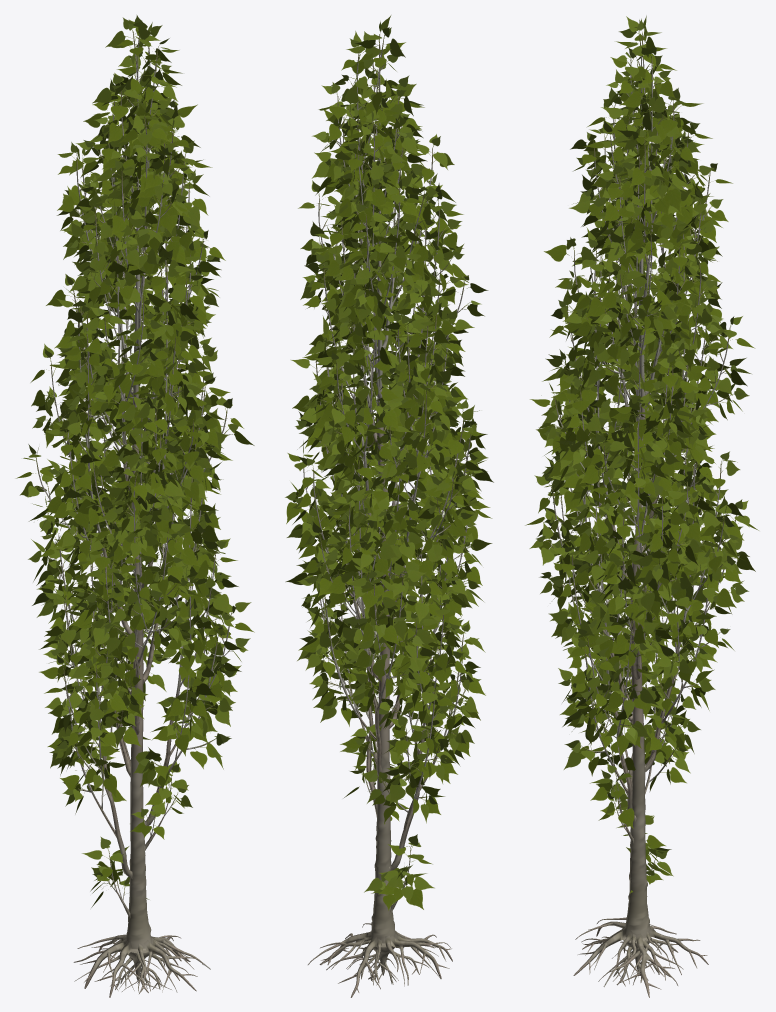
The model's file is tree-poplar.glb.
3 views of the same model, side by side, from view 1: azimuth 30°, elevation 25°; view 2: azimuth 150°, elevation 25°; view 3: azimuth 270°, elevation 25° (orthographic).
Visible parts, largest first — view 1: Populus_nigra__Italica__HD_Pop nigra leaf 01d_0, Populus_nigra__Italica__HD_Pop nigra leaf 01c_0, Populus_nigra__Italica__HD_Pop nigra bark 01_0, Populus_nigra__Italica__HD_Pop nigra leaf 01b_0, Populus_nigra__Italica__HD_Pop nigra twig 03_0, Populus_nigra__Italica__HD_Pop nigra lf stk 01d_0, Populus_nigra__Italica__HD_Pop nigra lf stk 01c_0; view 2: Populus_nigra__Italica__HD_Pop nigra leaf 01d_0, Populus_nigra__Italica__HD_Pop nigra leaf 01c_0, Populus_nigra__Italica__HD_Pop nigra bark 01_0, Populus_nigra__Italica__HD_Pop nigra leaf 01b_0, Populus_nigra__Italica__HD_Pop nigra twig 03_0, Populus_nigra__Italica__HD_Pop nigra lf stk 01d_0, Populus_nigra__Italica__HD_Pop nigra lf stk 01c_0; view 3: Populus_nigra__Italica__HD_Pop nigra leaf 01d_0, Populus_nigra__Italica__HD_Pop nigra leaf 01c_0, Populus_nigra__Italica__HD_Pop nigra bark 01_0, Populus_nigra__Italica__HD_Pop nigra leaf 01b_0, Populus_nigra__Italica__HD_Pop nigra twig 03_0, Populus_nigra__Italica__HD_Pop nigra lf stk 01d_0, Populus_nigra__Italica__HD_Pop nigra lf stk 01c_0.
Boxes of the visible parts, x1,y1,x2,y2 form: Populus_nigra__Italica__HD_Pop nigra leaf 01d_0: (15, 27, 254, 907); Populus_nigra__Italica__HD_Pop nigra leaf 01c_0: (23, 17, 251, 893); Populus_nigra__Italica__HD_Pop nigra bark 01_0: (41, 57, 227, 997); Populus_nigra__Italica__HD_Pop nigra leaf 01b_0: (28, 15, 250, 885); Populus_nigra__Italica__HD_Pop nigra twig 03_0: (36, 31, 231, 900); Populus_nigra__Italica__HD_Pop nigra lf stk 01d_0: (33, 36, 235, 888); Populus_nigra__Italica__HD_Pop nigra lf stk 01c_0: (35, 28, 232, 889); Populus_nigra__Italica__HD_Pop nigra leaf 01d_0: (285, 40, 493, 910); Populus_nigra__Italica__HD_Pop nigra leaf 01c_0: (287, 15, 488, 903); Populus_nigra__Italica__HD_Pop nigra bark 01_0: (305, 67, 468, 997); Populus_nigra__Italica__HD_Pop nigra leaf 01b_0: (285, 21, 483, 889); Populus_nigra__Italica__HD_Pop nigra twig 03_0: (301, 34, 471, 888); Populus_nigra__Italica__HD_Pop nigra lf stk 01d_0: (296, 44, 475, 893); Populus_nigra__Italica__HD_Pop nigra lf stk 01c_0: (304, 32, 470, 885); Populus_nigra__Italica__HD_Pop nigra leaf 01d_0: (525, 33, 758, 893); Populus_nigra__Italica__HD_Pop nigra leaf 01c_0: (529, 15, 751, 880); Populus_nigra__Italica__HD_Pop nigra bark 01_0: (554, 61, 726, 997); Populus_nigra__Italica__HD_Pop nigra leaf 01b_0: (536, 18, 748, 875); Populus_nigra__Italica__HD_Pop nigra twig 03_0: (548, 32, 736, 875); Populus_nigra__Italica__HD_Pop nigra lf stk 01d_0: (547, 42, 738, 870); Populus_nigra__Italica__HD_Pop nigra lf stk 01c_0: (545, 31, 736, 863).
Bounding box in the file's own units: 0.8352 × 3.9 × 0.8734.
9 materials, 6 textured.
